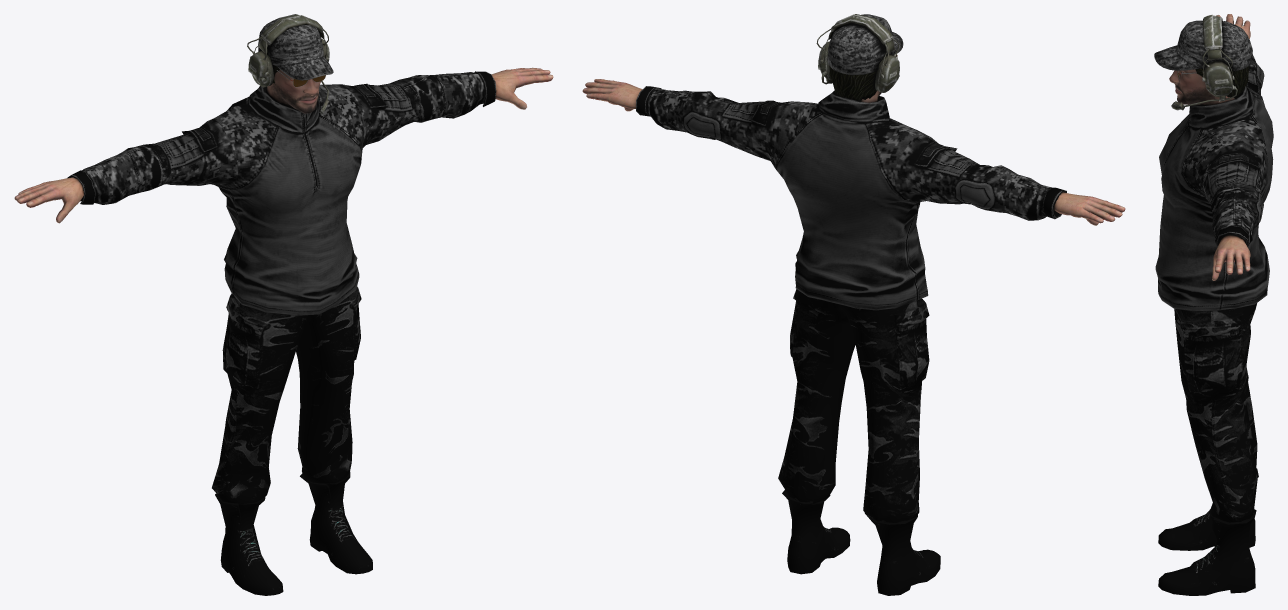
File: Pilot_01.FBX
3 views of the same model, side by side, from view 1: azimuth 30°, elevation 25°; view 2: azimuth 150°, elevation 25°; view 3: azimuth 270°, elevation 25° (orthographic).
Visible parts, largest first — view 1: Pilot_F; view 2: Pilot_F; view 3: Pilot_F.
Boxes of the visible parts, x1,y1,x2,y2 form: Pilot_F: (14, 14, 553, 595); Pilot_F: (582, 14, 1125, 595); Pilot_F: (1154, 14, 1273, 595).
Bounding box in the file's own units: 189 × 187 × 37.04.
Materials: 1 (1 with a texture image).
